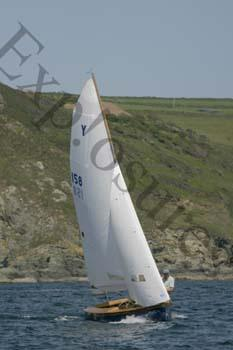Ship: (68, 73, 172, 319)
